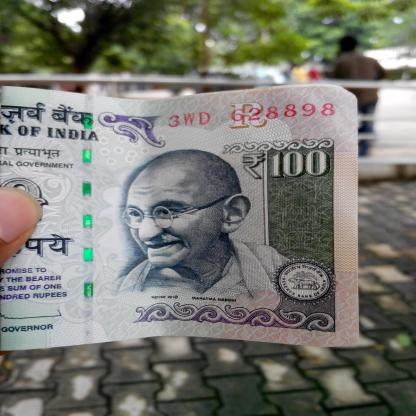Old100Front: (0, 81, 362, 354)
